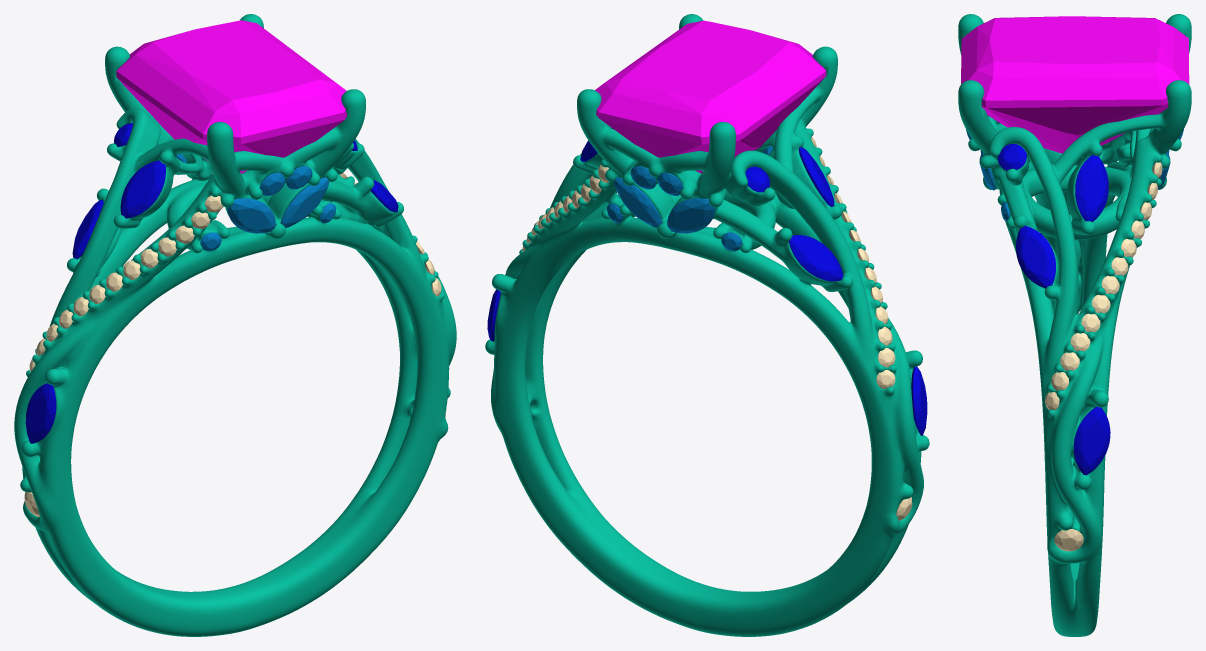
Rendered from BE1D3737_RA_200ct_RENDER.glb.
3 renders of one model, left to right at view 1: azimuth 30°, elevation 25°; view 2: azimuth 150°, elevation 25°; view 3: azimuth 270°, elevation 25°, orthographic.
Visible parts, largest first — view 1: Metal 01, CS_Diamond_Radiant, Diamond_Marquise_side.001, Diamond_Marquise_side.002, Diamond_Marquise_Gem_HD, Diamond_Marquise_Gem_HD.001, Diamond_Marquise_side.004; view 2: Metal 01, CS_Diamond_Radiant, Diamond_Marquise_side.004, Diamond_Marquise_Gem_HD.003, Diamond_Marquise_Gem_HD.002, Diamond_Marquise_side.002, Diamond_Marquise_side.001; view 3: Metal 01, CS_Diamond_Radiant, Diamond_Marquise_side.003, Diamond_Marquise_side.005, Diamond_Marquise_side, Diamond_Round_side.001, Diamond_Round_Gem_SH.027.
Boxes of the visible parts, bbox=[...] form: Metal 01: bbox=[14, 14, 456, 636]; CS_Diamond_Radiant: bbox=[116, 20, 346, 173]; Diamond_Marquise_side.001: bbox=[120, 160, 165, 218]; Diamond_Marquise_side.002: bbox=[25, 383, 56, 443]; Diamond_Marquise_Gem_HD: bbox=[227, 198, 275, 233]; Diamond_Marquise_Gem_HD.001: bbox=[280, 177, 329, 227]; Diamond_Marquise_side.004: bbox=[72, 200, 103, 259]; Metal 01: bbox=[485, 14, 929, 636]; CS_Diamond_Radiant: bbox=[595, 20, 826, 173]; Diamond_Marquise_side.004: bbox=[788, 235, 843, 281]; Diamond_Marquise_Gem_HD.003: bbox=[667, 198, 715, 233]; Diamond_Marquise_Gem_HD.002: bbox=[613, 177, 662, 227]; Diamond_Marquise_side.002: bbox=[911, 366, 927, 435]; Diamond_Marquise_side.001: bbox=[799, 147, 834, 206]; Metal 01: bbox=[958, 14, 1191, 636]; CS_Diamond_Radiant: bbox=[961, 16, 1189, 153]; Diamond_Marquise_side.003: bbox=[1073, 406, 1110, 475]; Diamond_Marquise_side.005: bbox=[1016, 226, 1055, 288]; Diamond_Marquise_side: bbox=[1075, 155, 1108, 221]; Diamond_Round_side.001: bbox=[997, 144, 1026, 170]; Diamond_Round_Gem_SH.027: bbox=[1054, 529, 1083, 551].
Bounding box in the file's own units: 20.61 × 25.81 × 9.49.
